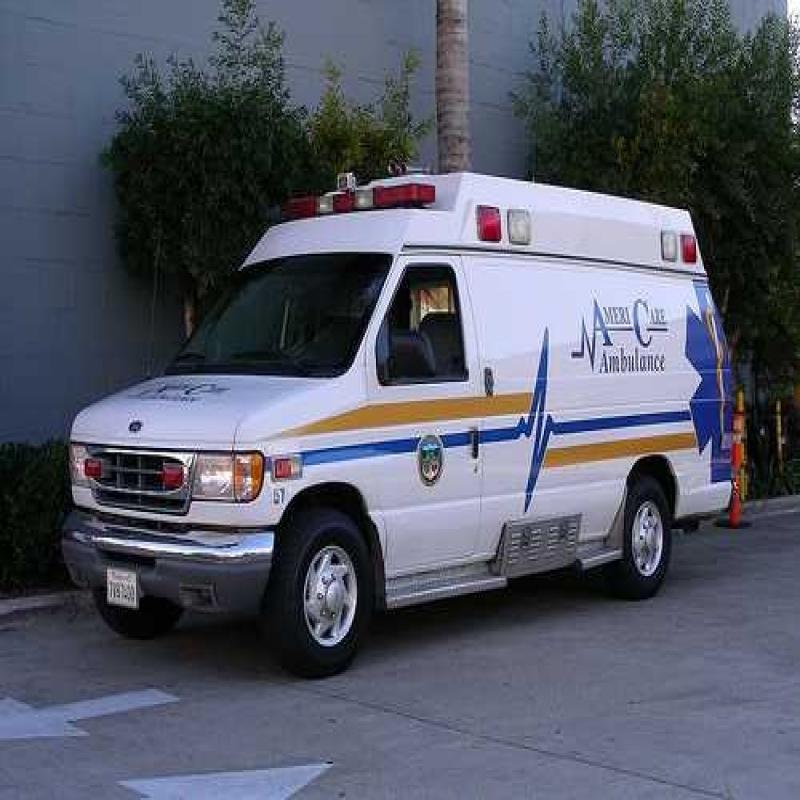AmbulanceSiren: (215, 134, 478, 245)
ambulance: (42, 134, 766, 709)
